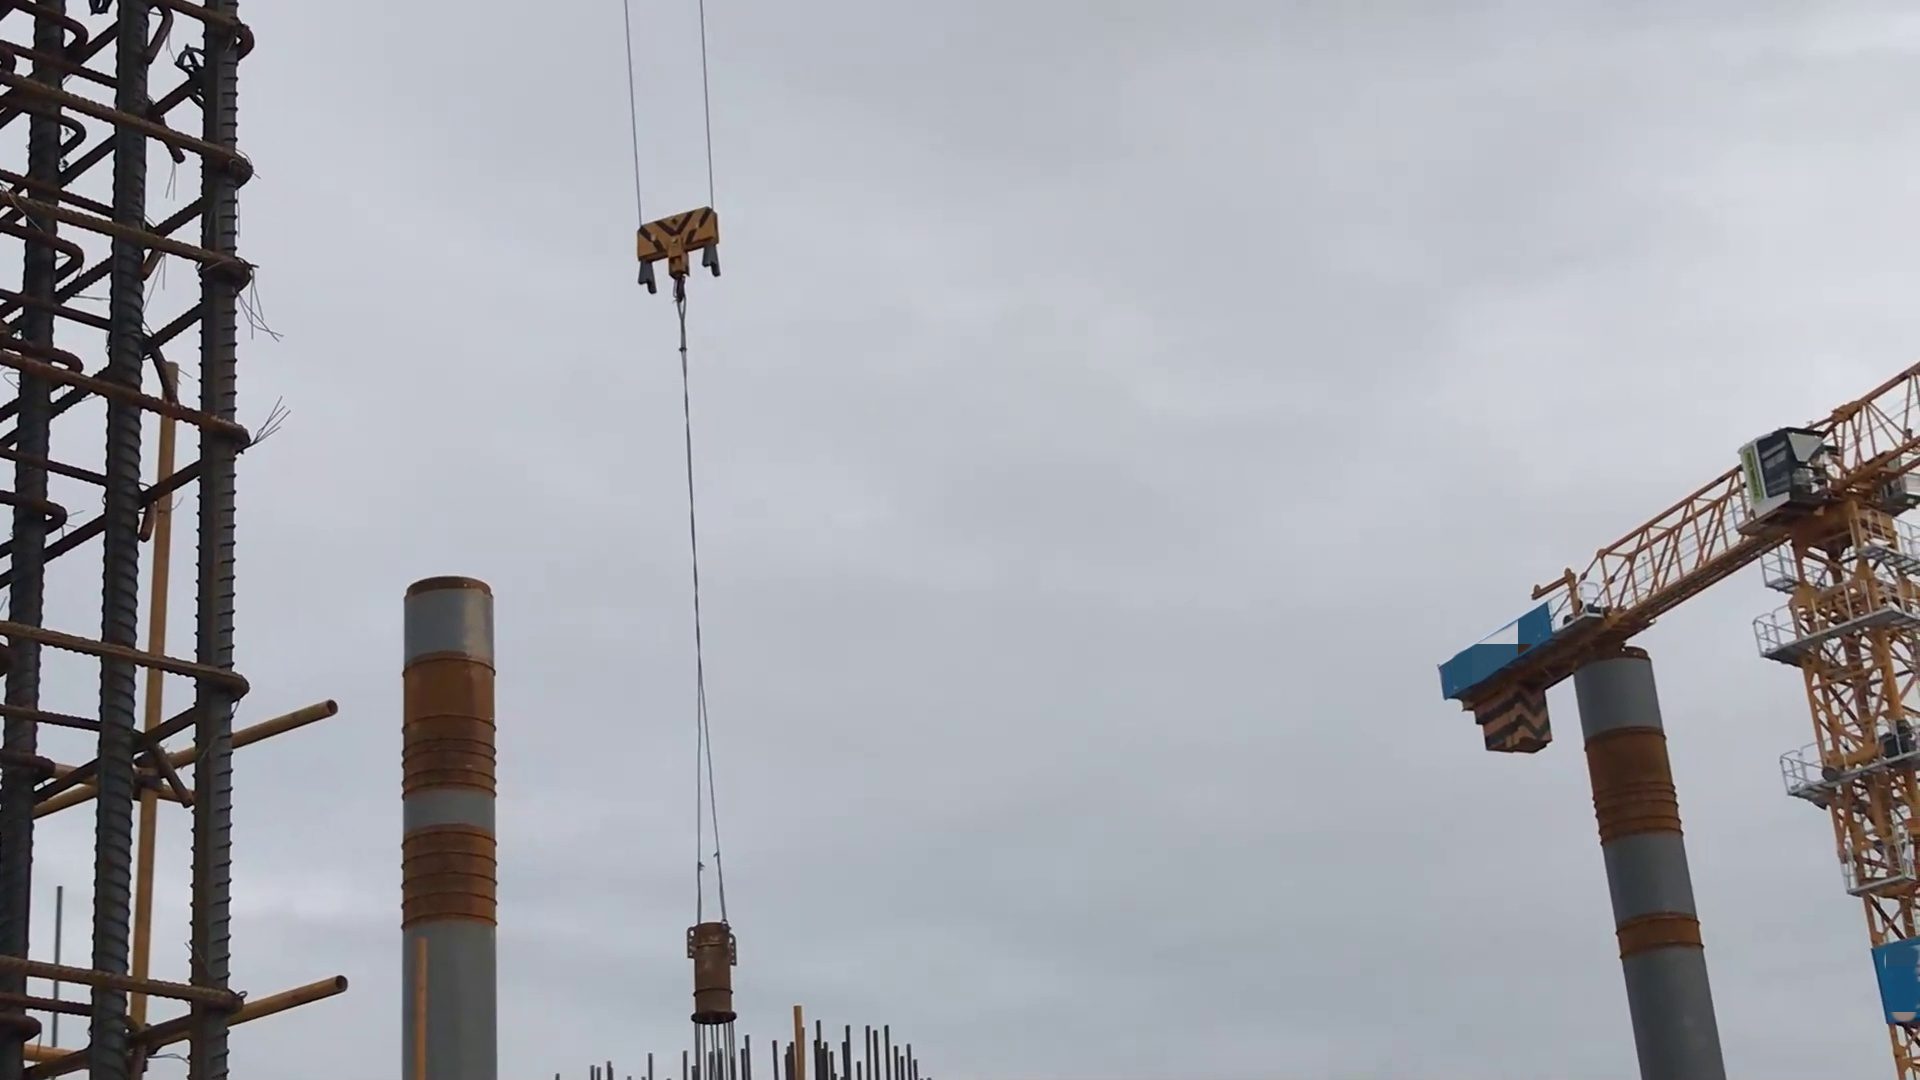hook: (632, 208, 725, 284)
